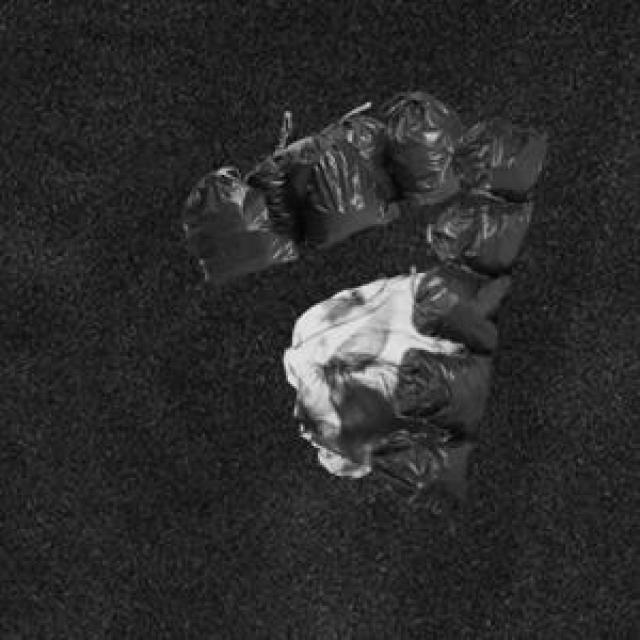miscellaneous trash: (363, 117, 544, 529), (179, 88, 461, 286)
